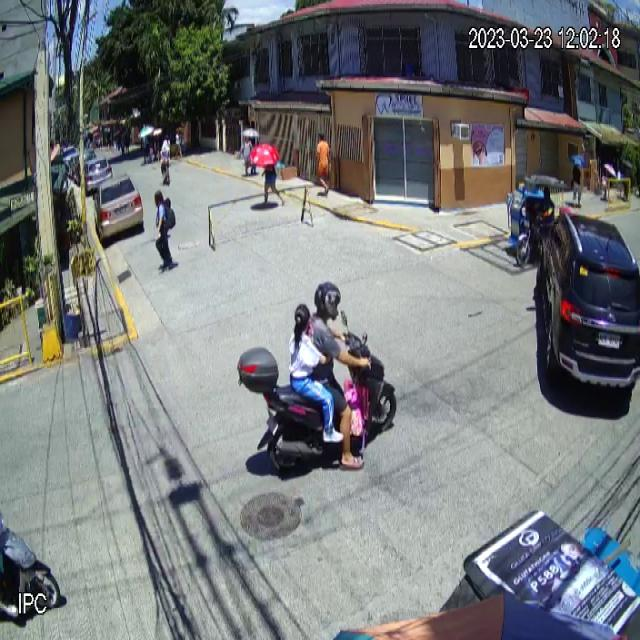Car: (530, 215, 640, 393), (92, 173, 143, 244)
Motorcycle: (238, 310, 397, 477)
Tricycle: (506, 173, 567, 270)
